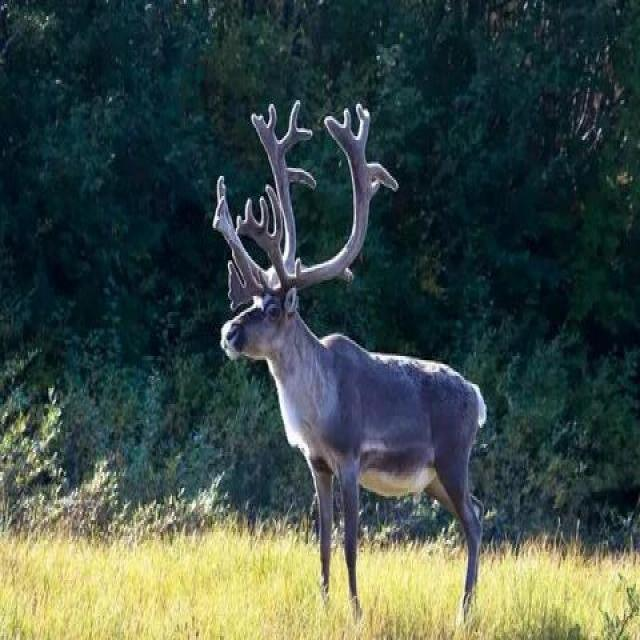deer: (212, 148, 511, 560)
